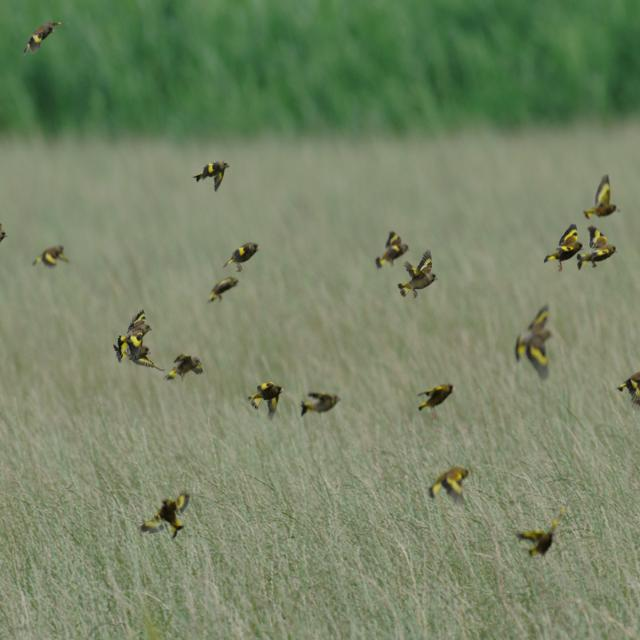bird: (513, 305, 555, 367), (139, 494, 190, 541), (542, 226, 587, 272), (514, 516, 562, 556), (576, 228, 617, 273), (398, 258, 440, 301), (429, 463, 471, 502), (297, 388, 342, 424), (243, 380, 284, 419), (583, 177, 620, 220), (374, 230, 411, 270), (416, 380, 454, 418), (220, 240, 262, 272), (26, 19, 63, 55), (165, 353, 205, 385), (30, 242, 70, 274), (108, 313, 148, 345), (194, 161, 232, 194), (615, 367, 640, 406), (207, 278, 242, 304), (130, 348, 156, 372)
